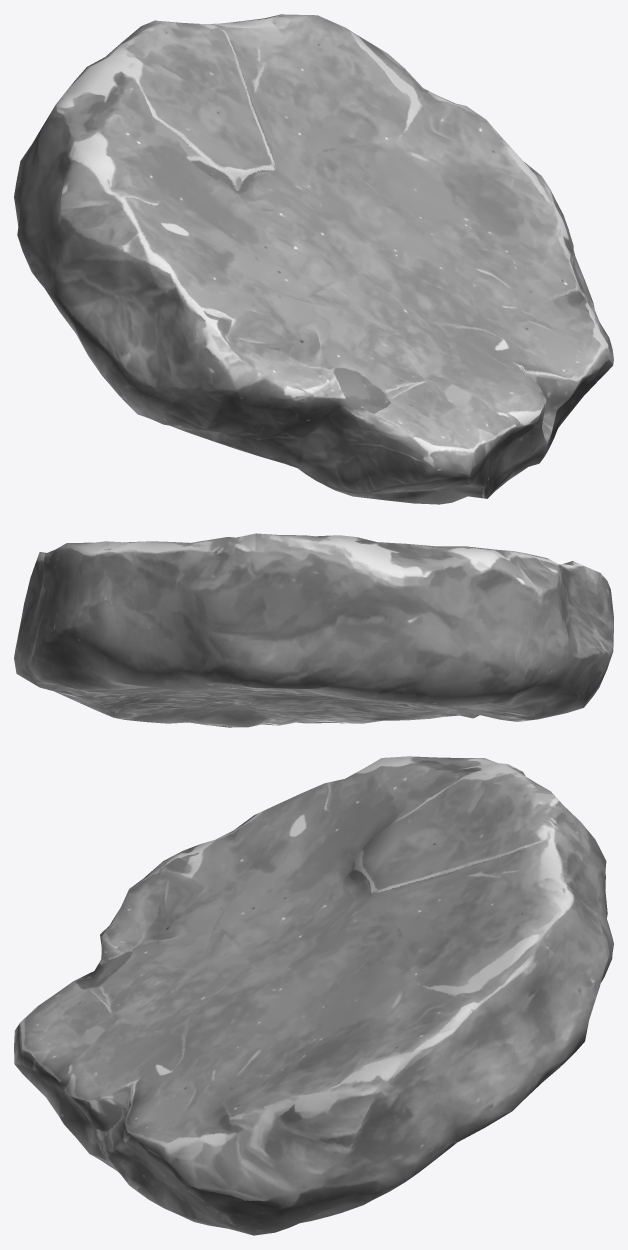
The model's file is rock_03.glb.
The picture shows the model from 3 angles, top to bottom: view 1: azimuth 30°, elevation 25°; view 2: azimuth 150°, elevation 25°; view 3: azimuth 270°, elevation 25°; orthographic projection. The views are drawn at different scales.
Visible parts, largest first — view 1: rock_03; view 2: rock_03; view 3: rock_03.
Part boxes in pixels (left/top/right/bottom): rock_03: left=14, top=14, right=613, bottom=504; rock_03: left=14, top=533, right=613, bottom=727; rock_03: left=14, top=756, right=613, bottom=1235.
Size of the model in its own units: 1.79 by 1.17 by 1.85.
Materials: 1 (1 with a texture image).
